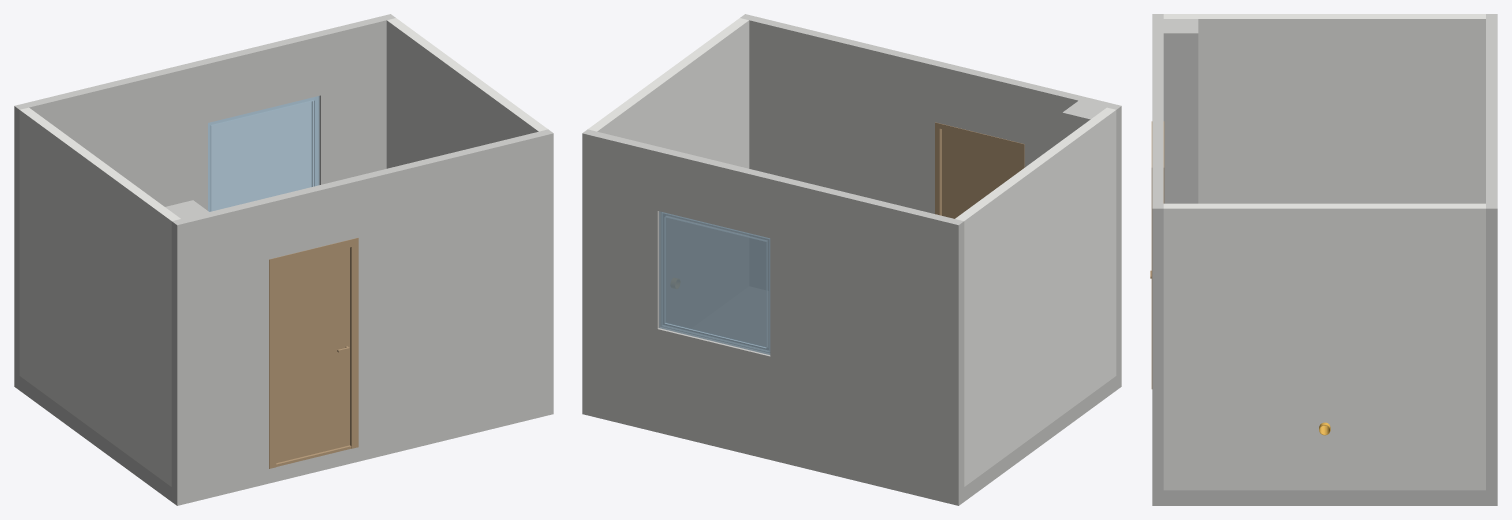
The picture shows the model from 3 angles, left to right: view 1: azimuth 30°, elevation 25°; view 2: azimuth 150°, elevation 25°; view 3: azimuth 270°, elevation 25°; orthographic projection. The views are drawn at different scales.
Visible parts, largest first — view 1: 2tPY__OdfVNuvoaOAuF9Qe, 0befc3XgvRoBPECyCR_evt, 08$kKO7CLV3O8LjbwHKS7P, 0xiWtZgcHGc98LYwuOS0h8, 3_ybKYsEvR8e9fWnAHdJk$, 0RU6H0fCHH_h_beBjidszj, 17mkW5LUDIguhZiRni4WtE; view 2: 08$kKO7CLV3O8LjbwHKS7P, 0befc3XgvRoBPECyCR_evt, 2tPY__OdfVNuvoaOAuF9Qe, 0RU6H0fCHH_h_beBjidszj, 3_ybKYsEvR8e9fWnAHdJk$, 17mkW5LUDIguhZiRni4WtE, 0xiWtZgcHGc98LYwuOS0h8, 1sDjjCkT9Kw8ilXSdV1_Bx; view 3: 3_ybKYsEvR8e9fWnAHdJk$, 0befc3XgvRoBPECyCR_evt, 1sDjjCkT9Kw8ilXSdV1_Bx, 2tPY__OdfVNuvoaOAuF9Qe, 08$kKO7CLV3O8LjbwHKS7P, 17mkW5LUDIguhZiRni4WtE, 0xiWtZgcHGc98LYwuOS0h8.
Part boxes in pixels (<box>): 2tPY__OdfVNuvoaOAuF9Qe: <box>171,129,553,490</box>; 0befc3XgvRoBPECyCR_evt: <box>19,107,180,486</box>; 08$kKO7CLV3O8LjbwHKS7P: <box>14,14,395,375</box>; 0xiWtZgcHGc98LYwuOS0h8: <box>269,237,358,468</box>; 3_ybKYsEvR8e9fWnAHdJk$: <box>386,18,547,168</box>; 0RU6H0fCHH_h_beBjidszj: <box>208,96,319,211</box>; 17mkW5LUDIguhZiRni4WtE: <box>14,372,553,505</box>; 08$kKO7CLV3O8LjbwHKS7P: <box>582,129,964,490</box>; 0befc3XgvRoBPECyCR_evt: <box>955,107,1116,486</box>; 2tPY__OdfVNuvoaOAuF9Qe: <box>740,14,1121,375</box>; 0RU6H0fCHH_h_beBjidszj: <box>659,211,770,354</box>; 3_ybKYsEvR8e9fWnAHdJk$: <box>588,18,749,168</box>; 17mkW5LUDIguhZiRni4WtE: <box>582,372,1121,505</box>; 0xiWtZgcHGc98LYwuOS0h8: <box>935,122,1024,218</box>; 1sDjjCkT9Kw8ilXSdV1_Bx: <box>1062,100,1106,139</box>; 3_ybKYsEvR8e9fWnAHdJk$: <box>1163,203,1485,490</box>; 0befc3XgvRoBPECyCR_evt: <box>1163,14,1485,203</box>; 1sDjjCkT9Kw8ilXSdV1_Bx: <box>1163,19,1198,203</box>; 2tPY__OdfVNuvoaOAuF9Qe: <box>1152,14,1163,490</box>; 08$kKO7CLV3O8LjbwHKS7P: <box>1486,14,1497,490</box>; 17mkW5LUDIguhZiRni4WtE: <box>1152,490,1497,505</box>; 0xiWtZgcHGc98LYwuOS0h8: <box>1150,121,1164,388</box>.
Size of the model in its own units: 4.05 by 2.85 by 3.01.
